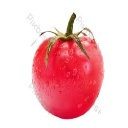tomato: (31, 36, 105, 117)
